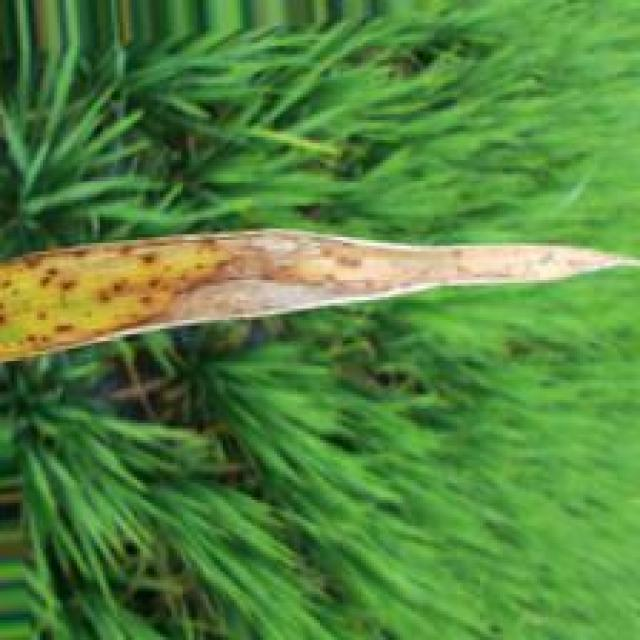Narrow_Brown_Leaf_Spot: (0, 229, 640, 368)
